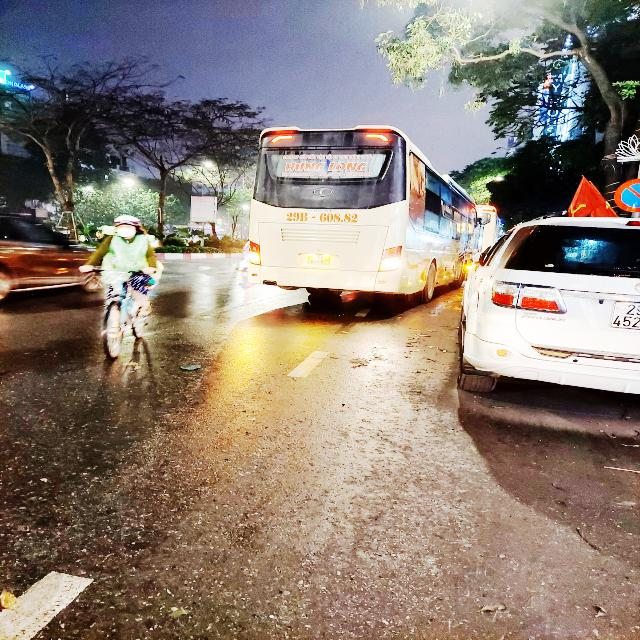license_plate: (308, 255, 333, 266)
